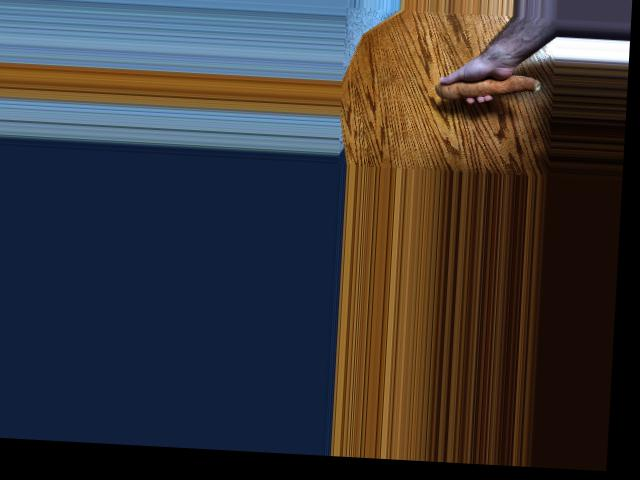sweet_potato: (436, 68, 540, 108)
